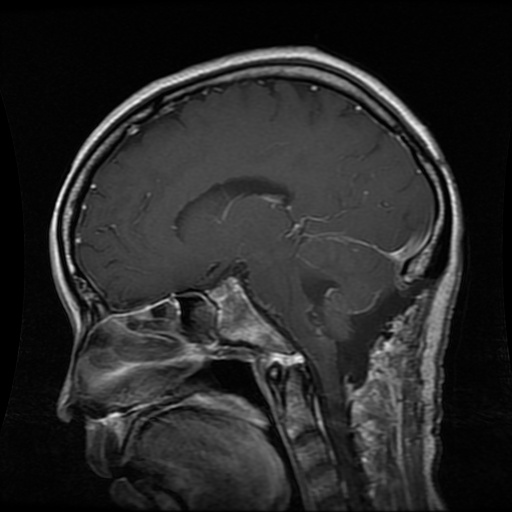glioma: (297, 268, 343, 326)
